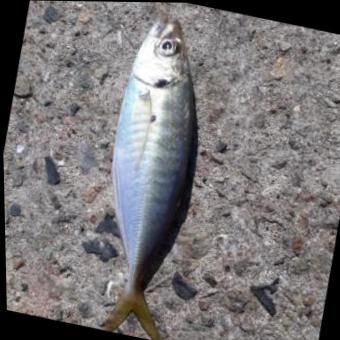fish: (100, 11, 199, 340)
